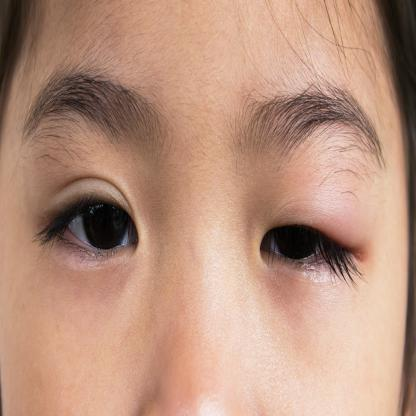puffyeyes: (307, 177, 367, 238)
